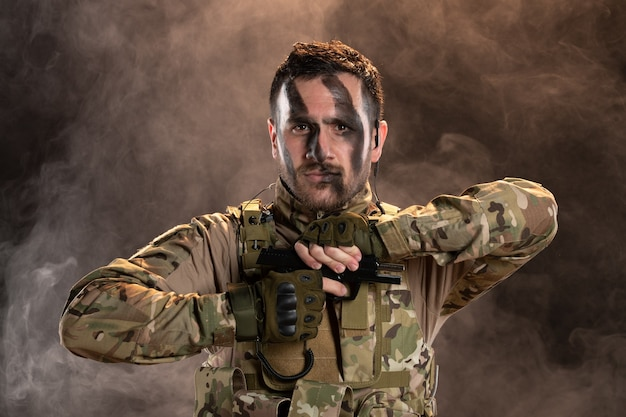gun: (257, 246, 407, 303)
